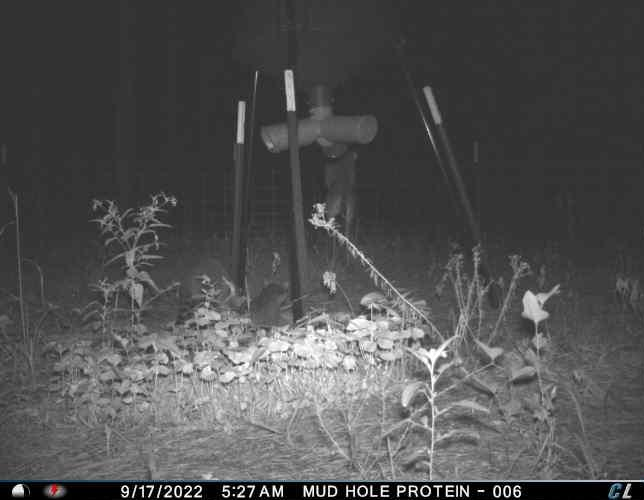Raccoon: (319, 145, 361, 243), (243, 275, 297, 340)
